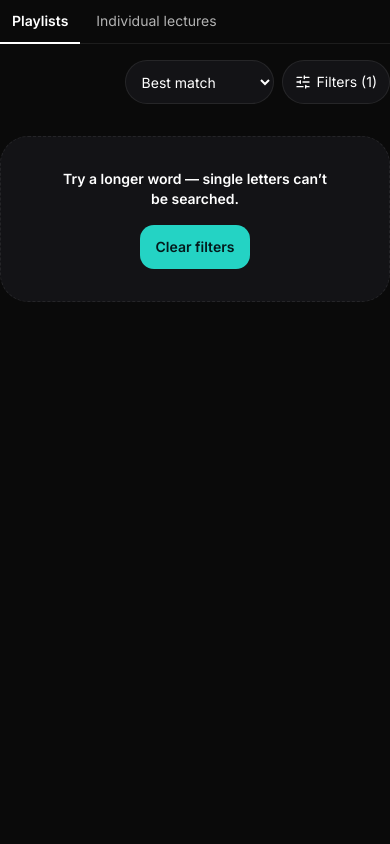
Test case: the mobile filter drawer's Show button › offers no course count for a search the server was never asked
Step 1. Click the button "Filters (1)" → point(336, 82), box [282,60,389,104]
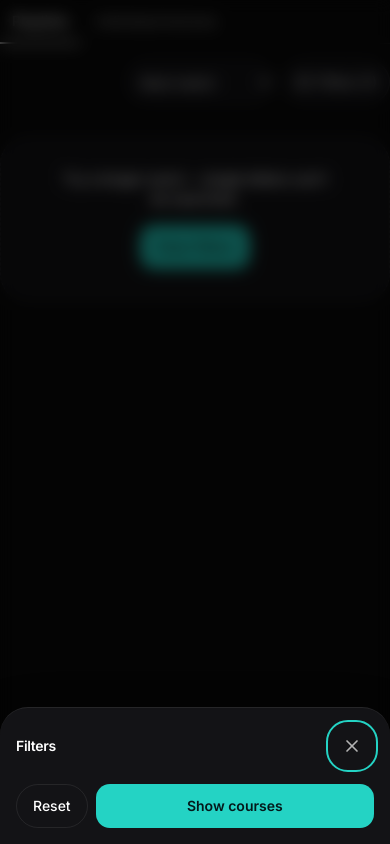
Check: the button "Show courses" is shown, box [96,784,374,828]
